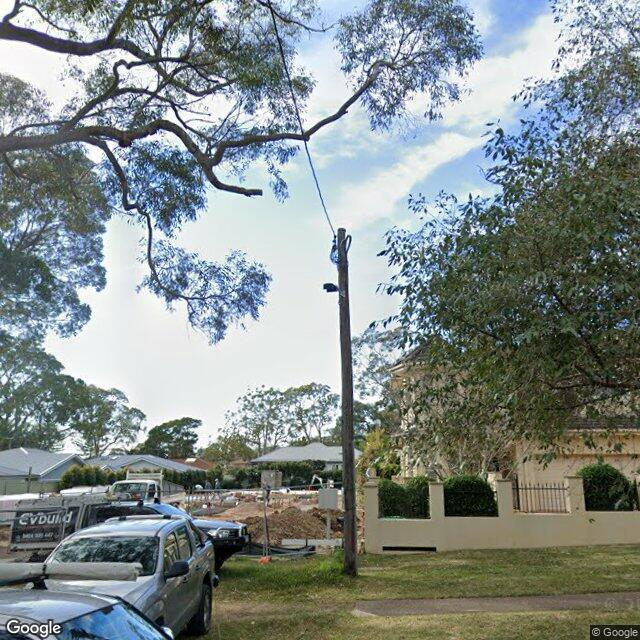streetlight: (323, 281, 346, 299)
timber-pole: (338, 228, 354, 575)
